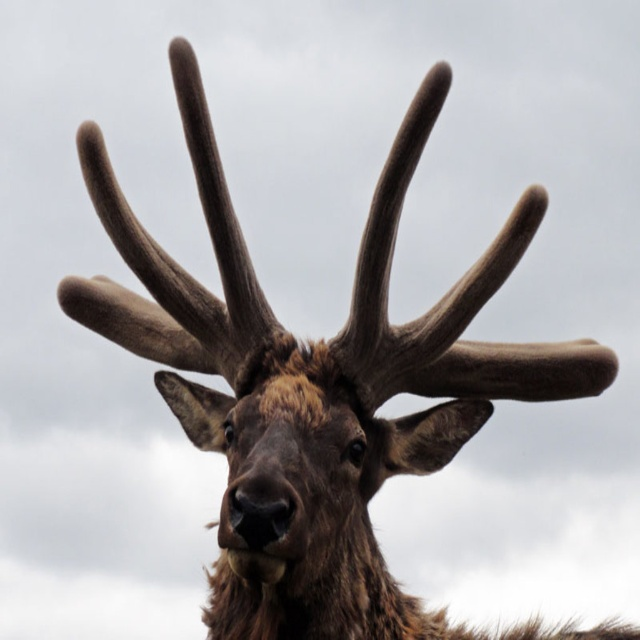Deer: (56, 36, 640, 640)
